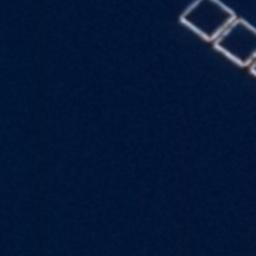square_solid: (176, 1, 241, 48), (209, 12, 256, 76)
